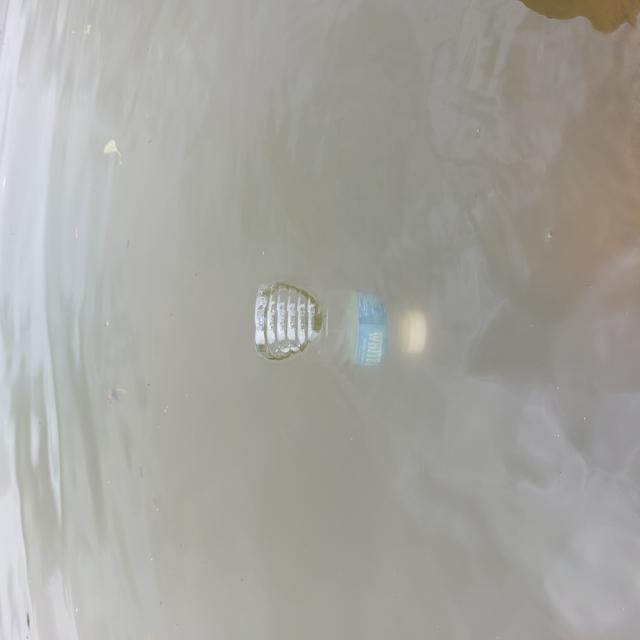waterbottle: (249, 267, 463, 394)
